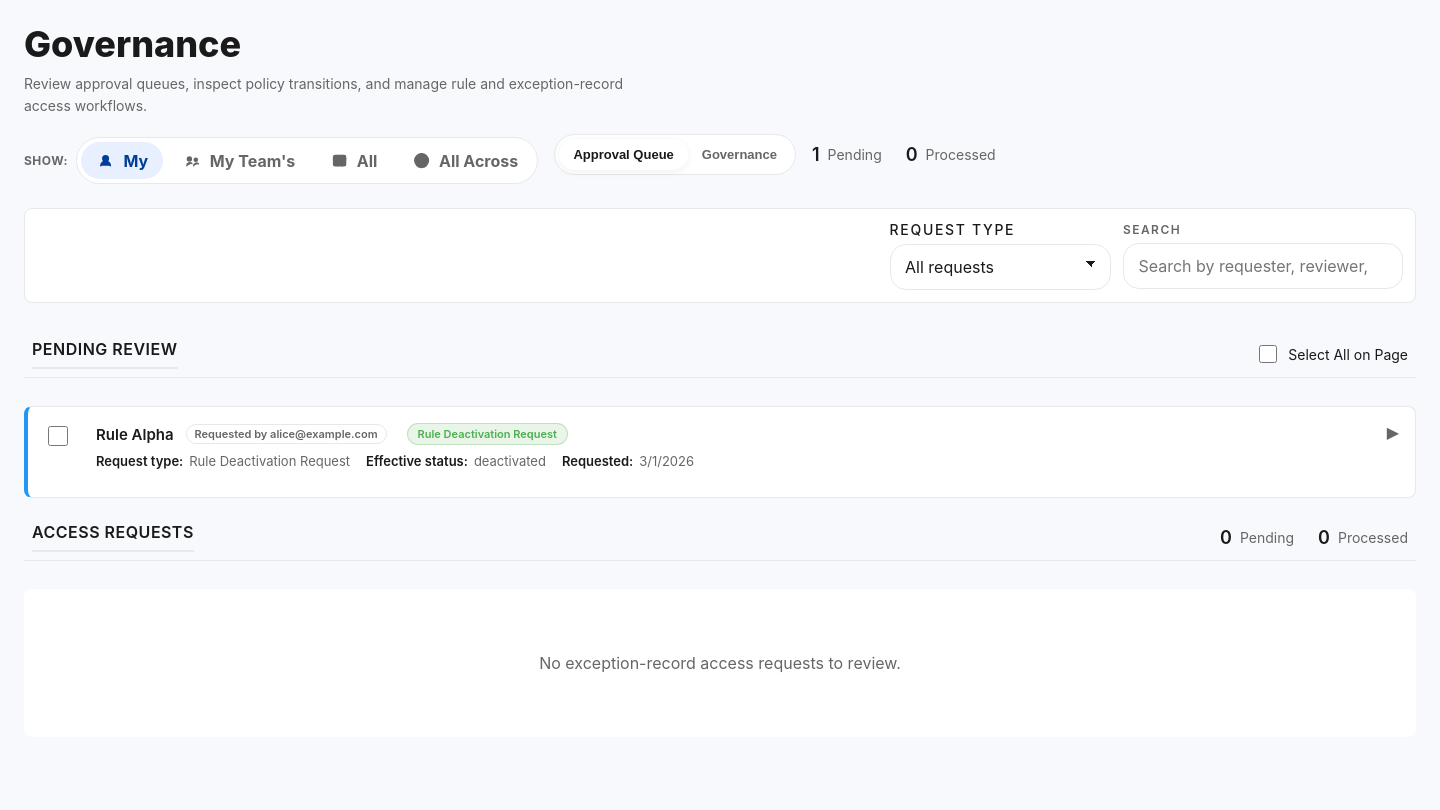
Test: Approvals requester canonical contract › disables approve for self-requested approvals
Expected: the heading "Rule Alpha" is shown, [96,425,174,444]
Click the button "▶" at x=1393, y=433, box [1387,423,1399,442]
(page scrolled)
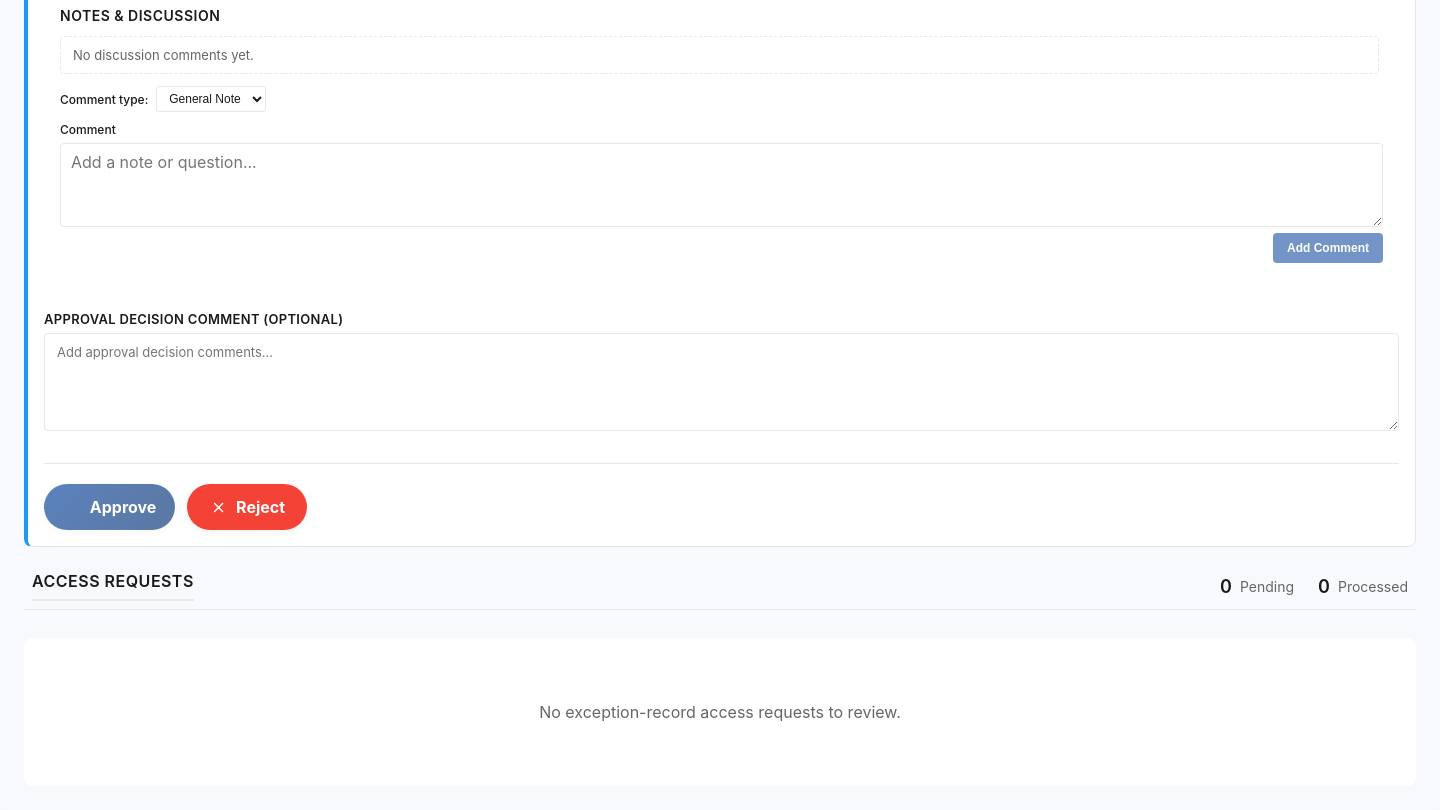
Expected: the button "Approve" is disabled, [44,484,175,530]
